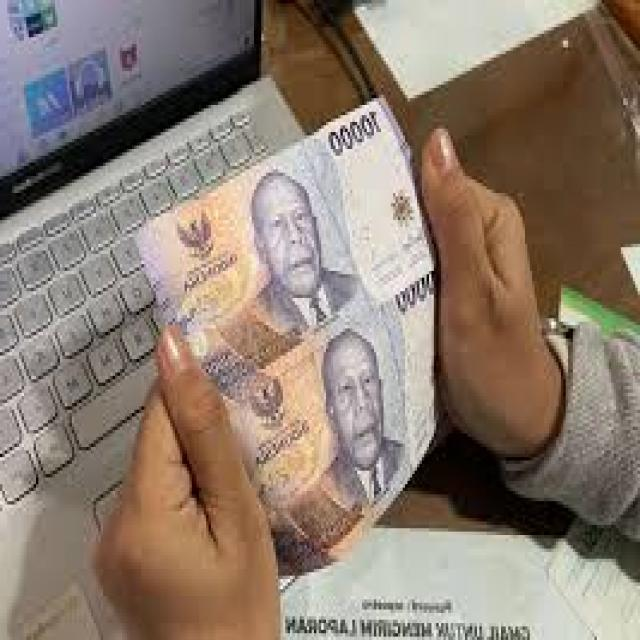sepuluh ribu rupiah: (131, 89, 436, 393), (219, 265, 437, 577)
